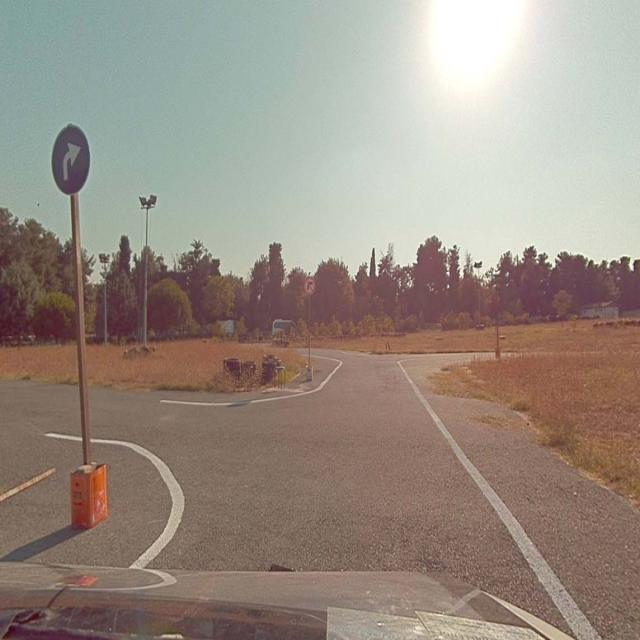sag: (51, 124, 91, 195)
sagadonulmez: (304, 276, 314, 294)
